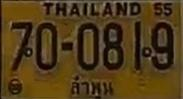0: (35, 22, 57, 69), (77, 22, 98, 69)
1: (134, 21, 141, 70)
7: (11, 21, 32, 70)
8: (102, 22, 123, 69)
9: (151, 21, 173, 69)
LPN: (68, 74, 115, 99)
